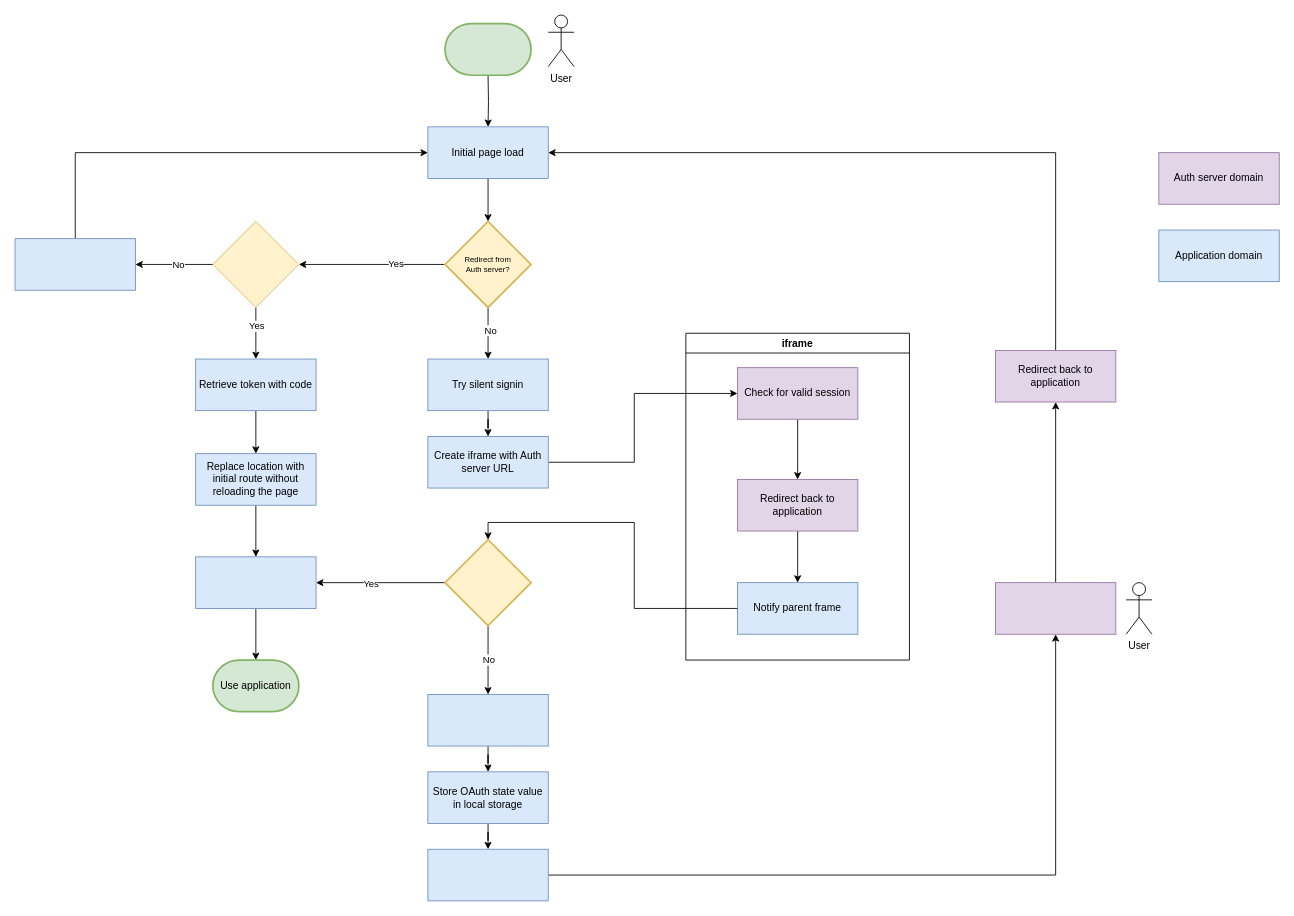
Some shapes in this 1294 by 916 pixel diagram are drawn without their labels. Here are the shapes that lost their labels. From the top down, the centre of each, then its label:
At point (487, 49): "Navigate to application".
At point (74, 264): "Redirect to initial route with full page reload".
At point (255, 264): "State stored in local storage?".
At point (255, 582): "Store token in local storage and render application".
At point (487, 582): "Has session with Auth server?".
At point (1055, 608): "Login with credentials".
At point (487, 720): "Store initial route in local storage".
At point (487, 874): "Redirect to OAuth server".
